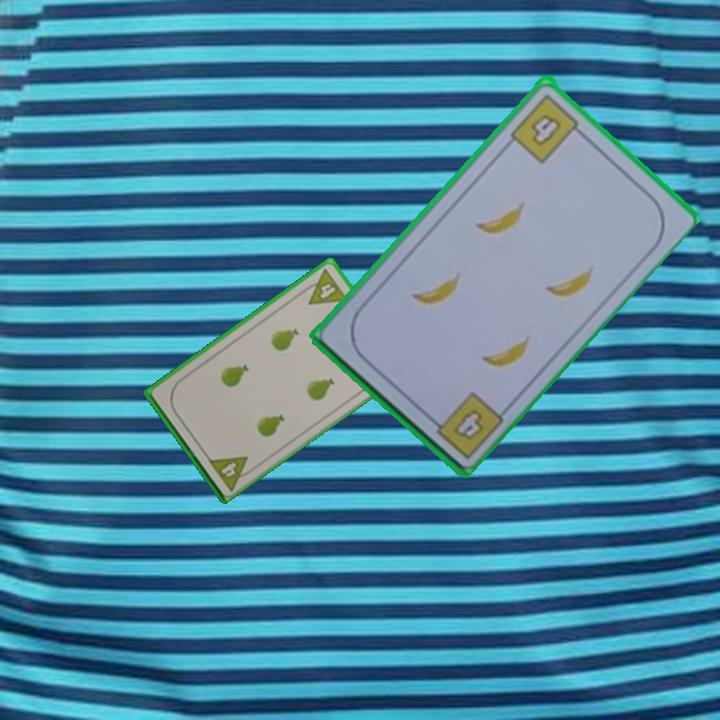4b: (506, 89, 587, 166), (449, 405, 487, 443)
4p: (297, 265, 351, 308), (204, 452, 258, 493)
